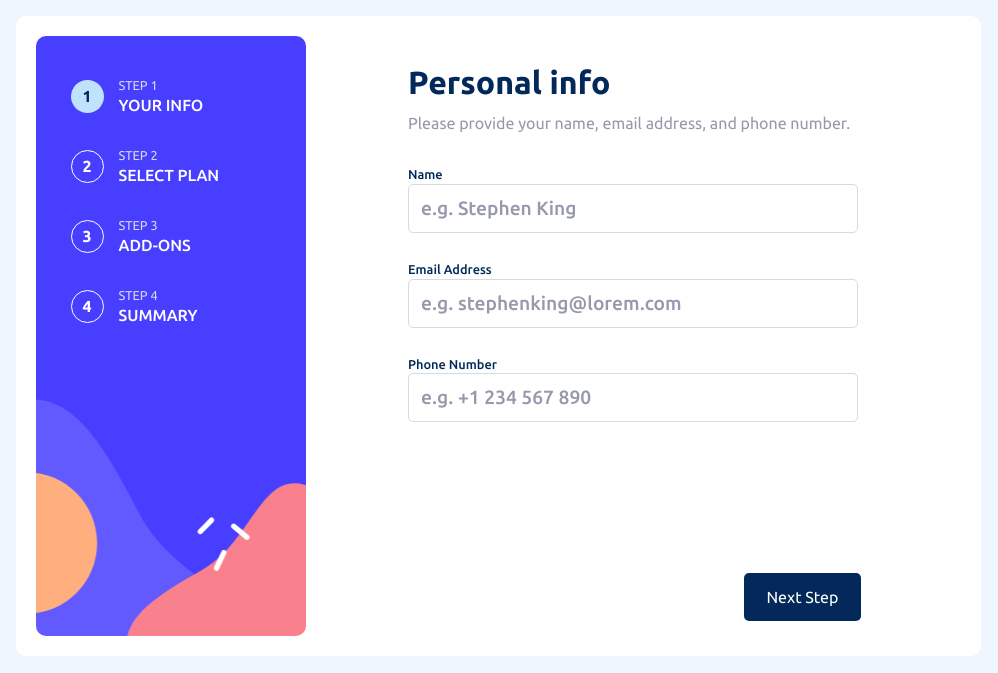
Normal usage - desktop › can switch to any screen by clicking menu buttons
Click the button with id "form4" at [88, 307], box [71,290,104,323]
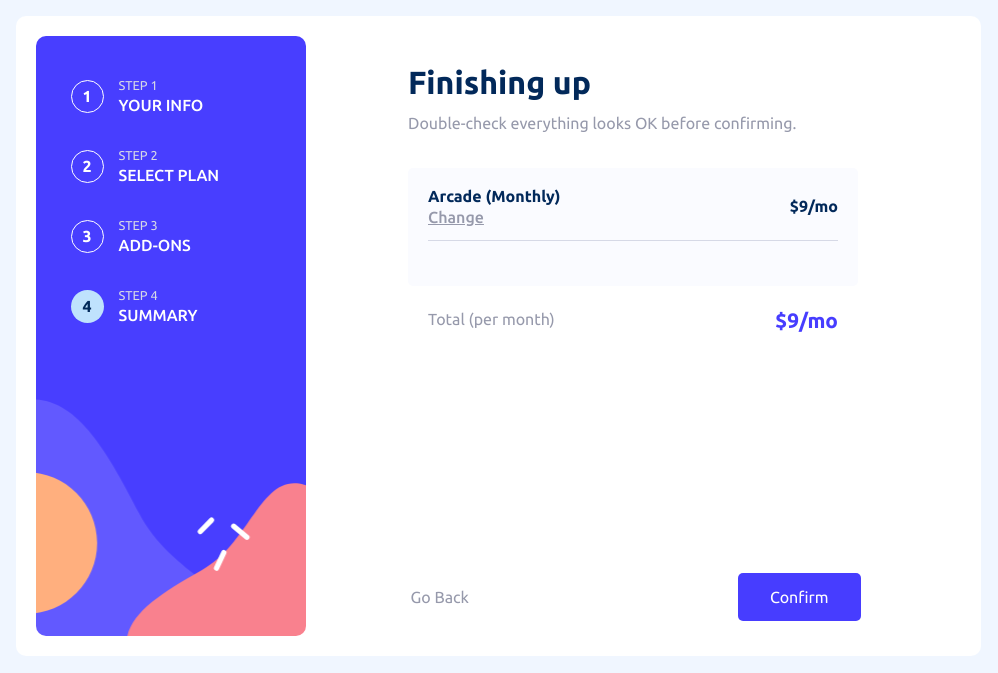
expect the heading "Finishing up" is shown: met, box [408,64,591,100]
Click the button with id "form3" at [88, 237], box [71,220,104,253]
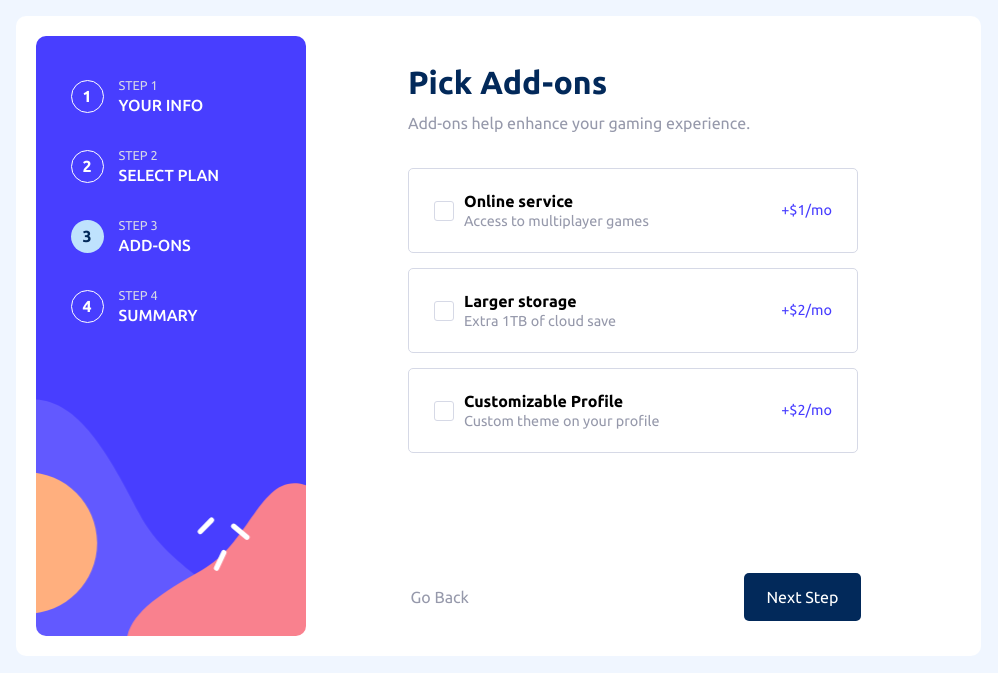
expect the heading "Pick Add-ons" is shown: met, box [408,64,607,100]
Click the button with id "form2" at [88, 167], box [71,150,104,183]
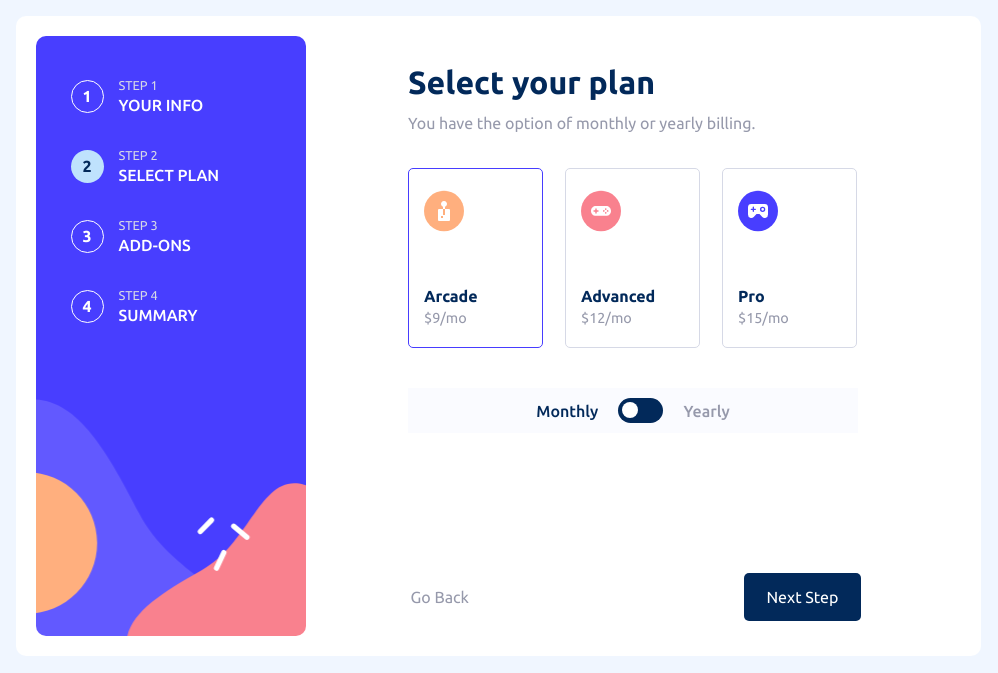
expect the heading "Select your plan" is shown: met, box [408,64,655,100]
Click the button with id "form1" at [88, 97], box [71,80,104,113]
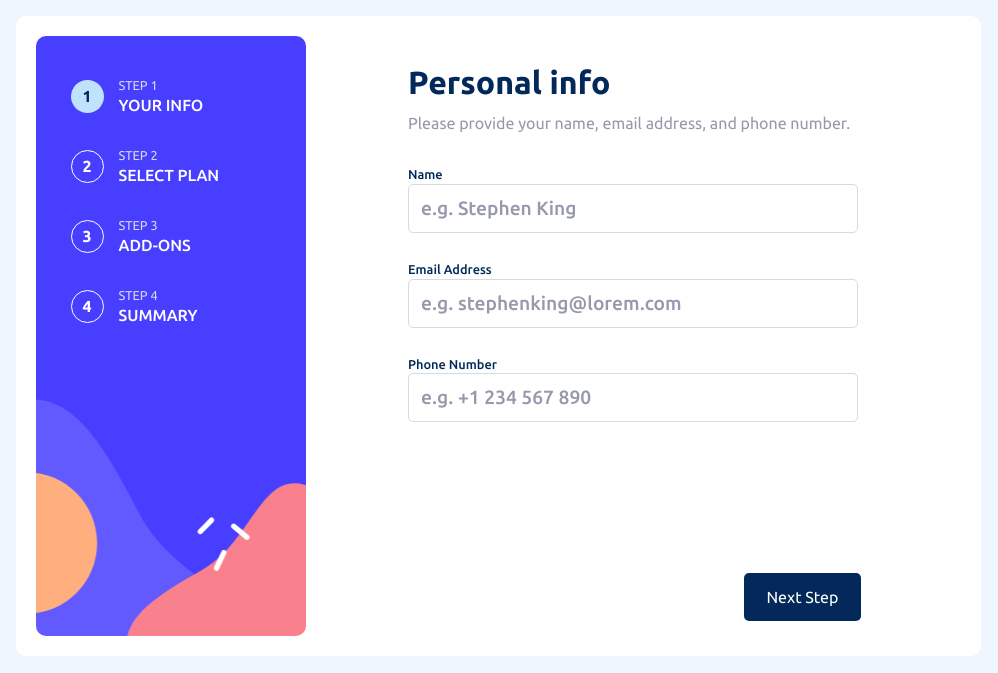
expect the heading "Personal info" is shown: met, box [408,64,610,100]
